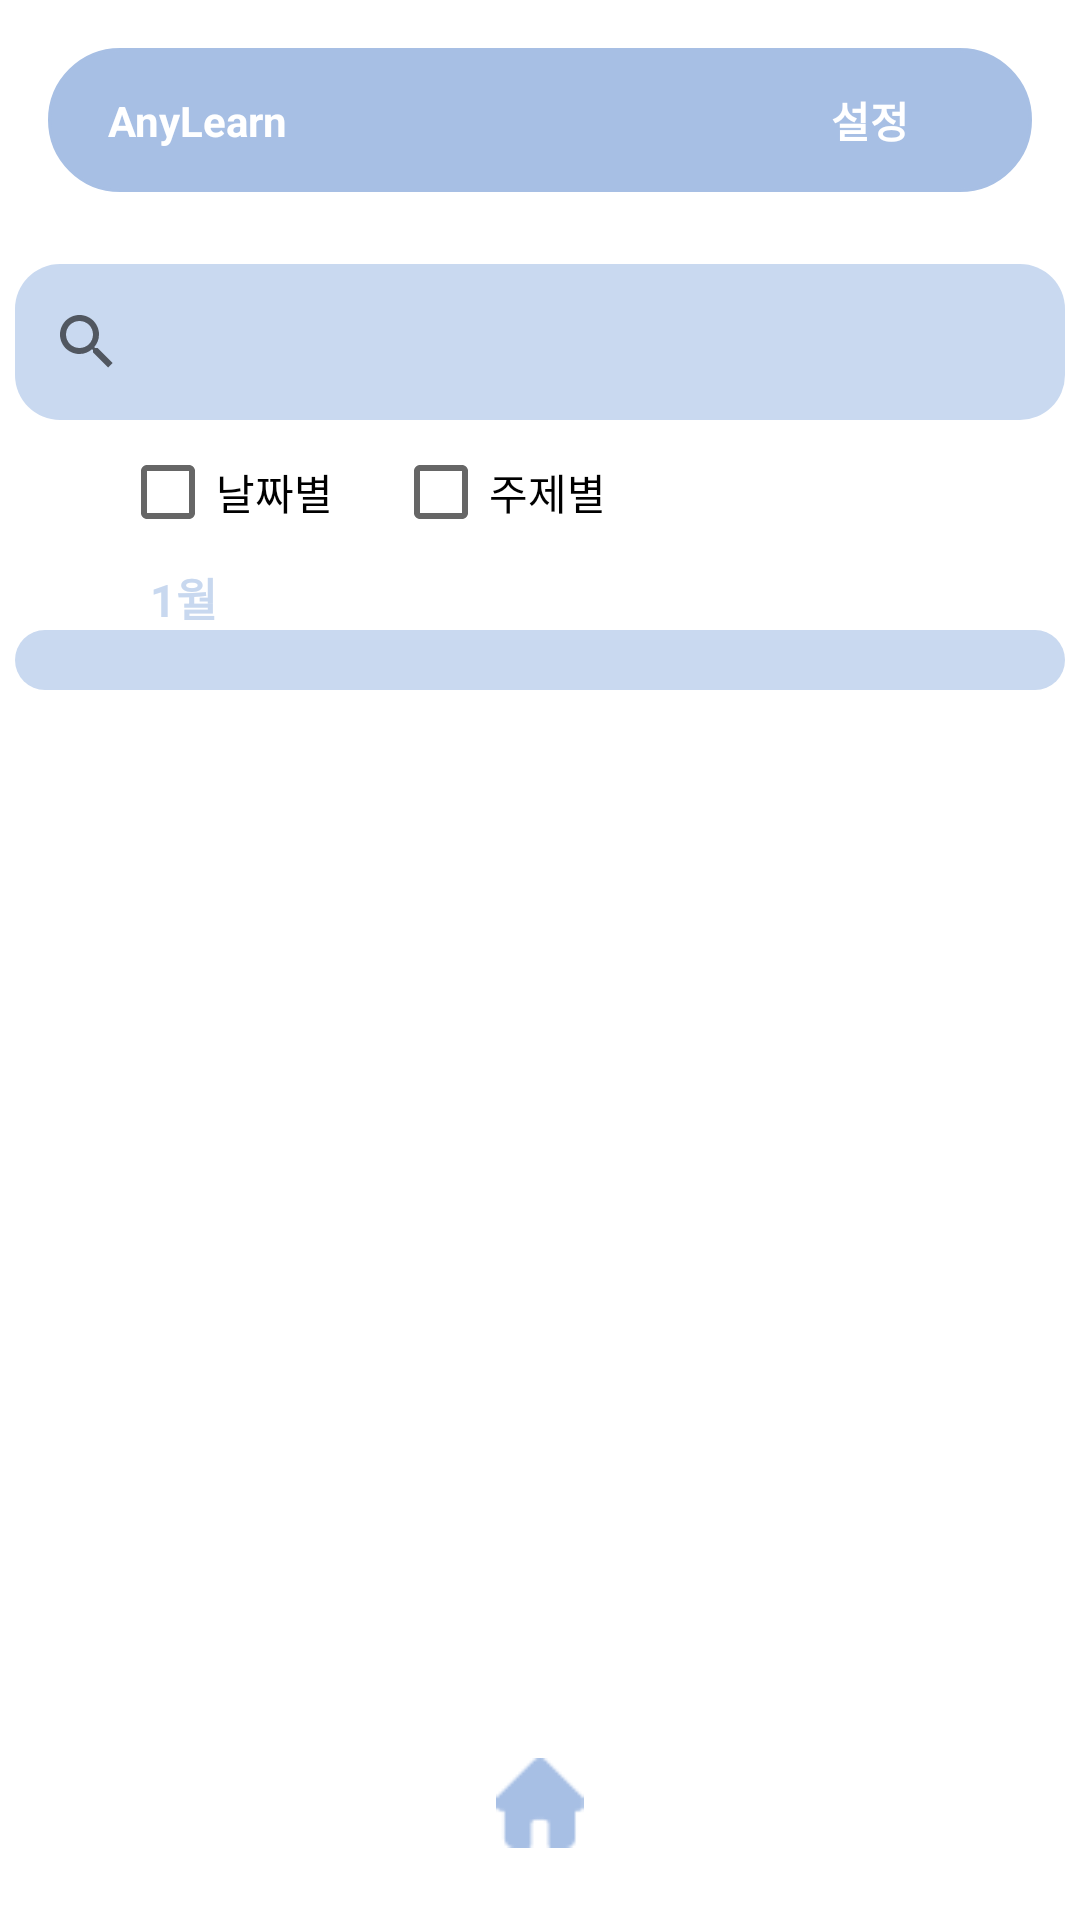

Icons on this 1080x1920 Android screen, each with its box as (x1, y1, x2, y2):
home: (496, 1758, 584, 1848)
